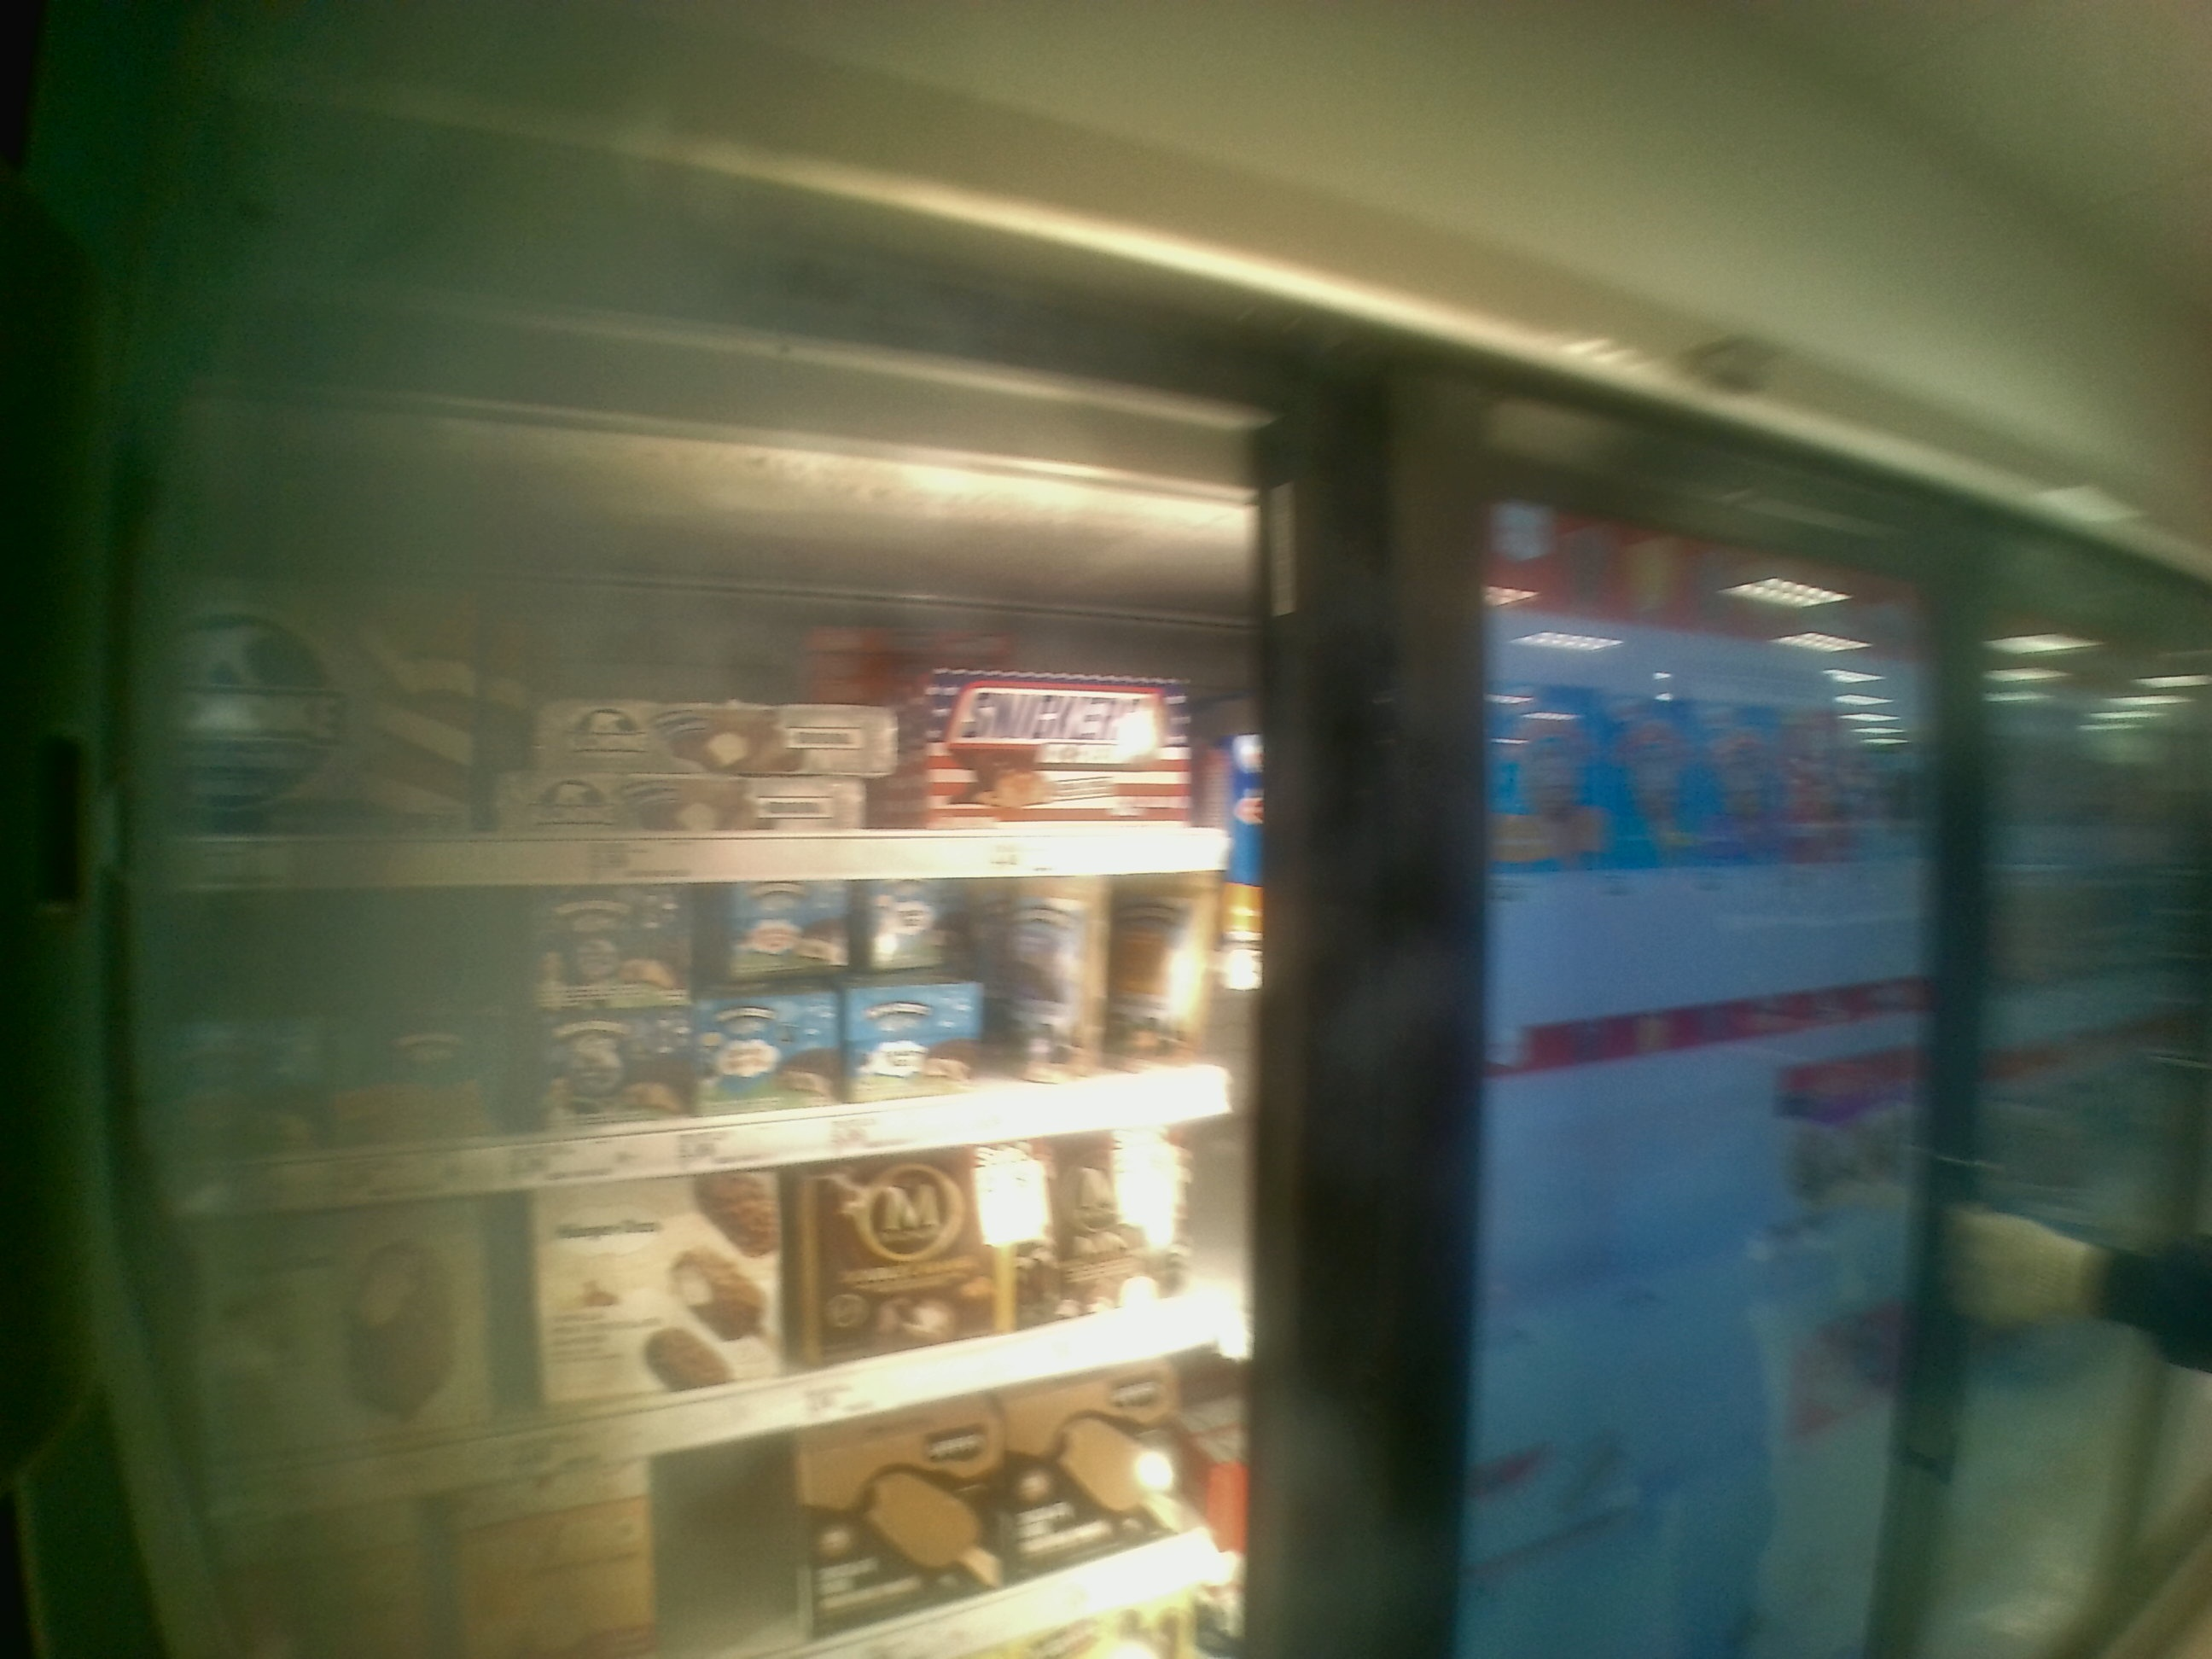shelf: (139, 490, 1242, 887), (139, 892, 1240, 1206)
